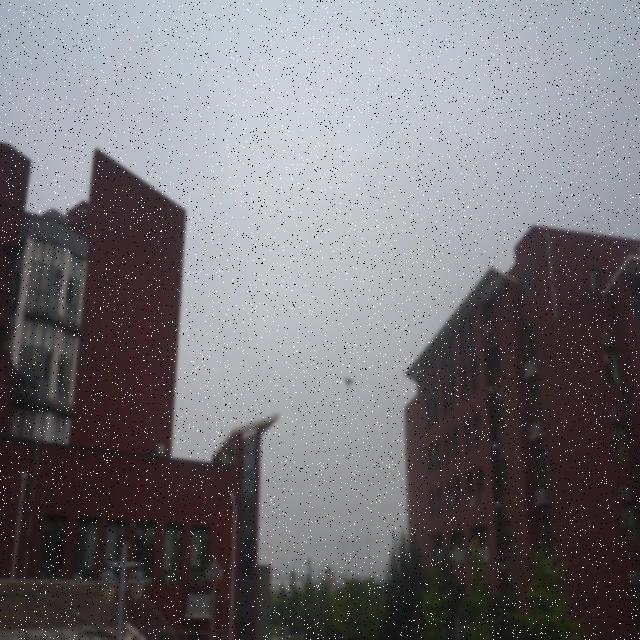UAV: (342, 377, 355, 389)
